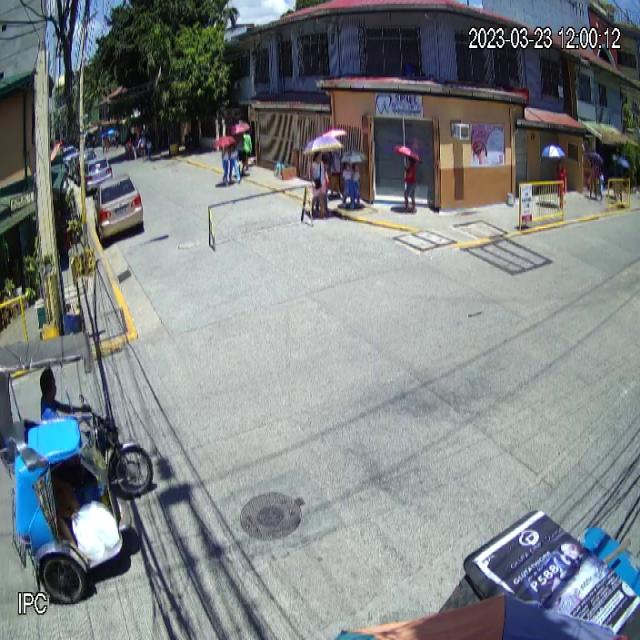Tricycle: (0, 332, 154, 604)
